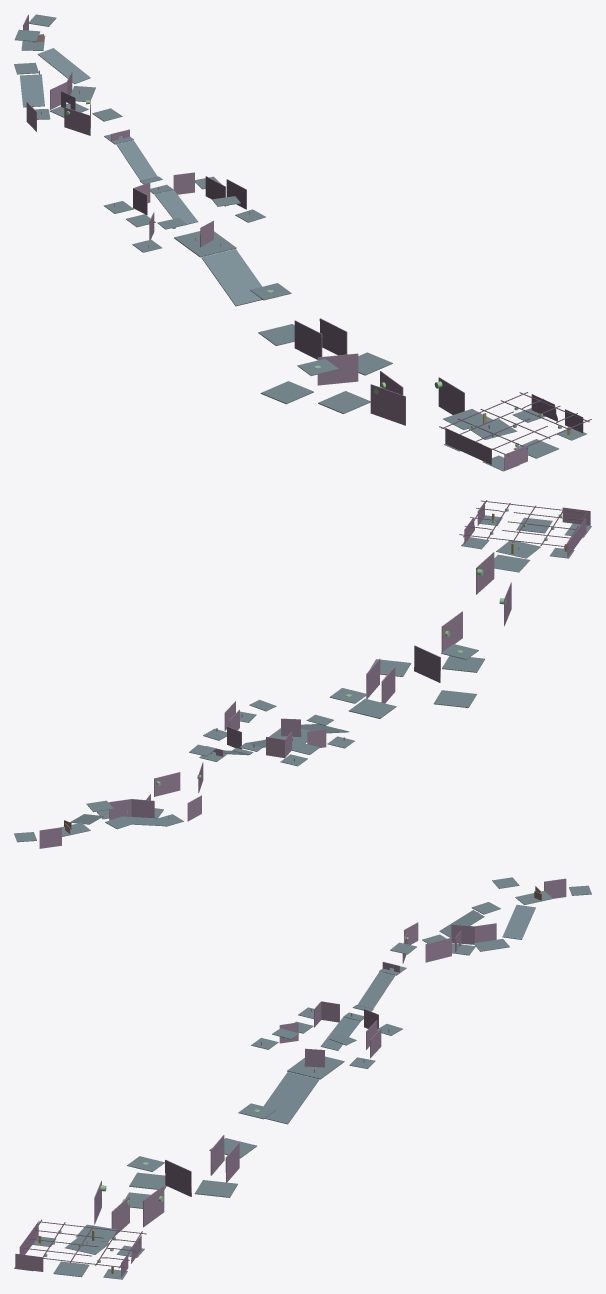
Rendered from level2.fbx.
The picture shows the model from 3 angles, top to bottom: view 1: azimuth 30°, elevation 25°; view 2: azimuth 150°, elevation 25°; view 3: azimuth 330°, elevation 25°; orthographic projection. The views are drawn at different scales.
Visible parts, largest first — view 1: pCube61, pCube72, pCube68, pCube34, pCube62, gym17, pCube3, pCube65, pCube46, pCube73, pCube50, gym21 (+3 smaller); view 2: pCube68, pCube71, pCube64, pCube69, pCube70, pCube56, pCube73, gym1, gym31; view 3: pCube61, pCube68, pCube46, pCube3, pCube34, pCube71, pCube66, pCube30.
Boxes of the visible parts, x1=… form: pCube61: x1=201, y1=249, x2=262, y2=306; pCube72: x1=370, y1=384, x2=405, y2=425; pCube68: x1=317, y1=353, x2=358, y2=385; pCube34: x1=174, y1=231, x2=236, y2=257; pCube62: x1=294, y1=320, x2=322, y2=359; gym17: x1=445, y1=428, x2=491, y2=464; pCube3: x1=116, y1=140, x2=157, y2=180; pCube65: x1=319, y1=318, x2=347, y2=355; pCube46: x1=37, y1=48, x2=90, y2=83; pCube73: x1=438, y1=377, x2=464, y2=414; pCube50: x1=20, y1=74, x2=44, y2=107; gym21: x1=531, y1=394, x2=583, y2=433; pCube68: x1=414, y1=645, x2=440, y2=682; pCube71: x1=441, y1=611, x2=462, y2=651; pCube64: x1=349, y1=698, x2=396, y2=718; pCube69: x1=433, y1=690, x2=476, y2=707; pCube70: x1=442, y1=656, x2=484, y2=672; pCube56: x1=154, y1=772, x2=180, y2=796; pCube73: x1=476, y1=552, x2=494, y2=594; gym1: x1=496, y1=540, x2=540, y2=558; gym31: x1=494, y1=554, x2=530, y2=572; pCube61: x1=263, y1=1072, x2=318, y2=1124; pCube68: x1=165, y1=1159, x2=191, y2=1196; pCube46: x1=502, y1=904, x2=535, y2=939; pCube3: x1=357, y1=971, x2=394, y2=1008; pCube34: x1=287, y1=1056, x2=344, y2=1079; pCube71: x1=143, y1=1185, x2=164, y2=1227; pCube66: x1=194, y1=1180, x2=237, y2=1197; pCube30: x1=320, y1=1017, x2=360, y2=1050.
Size of the model in its own units: 8344 by 5269 by 49790.
